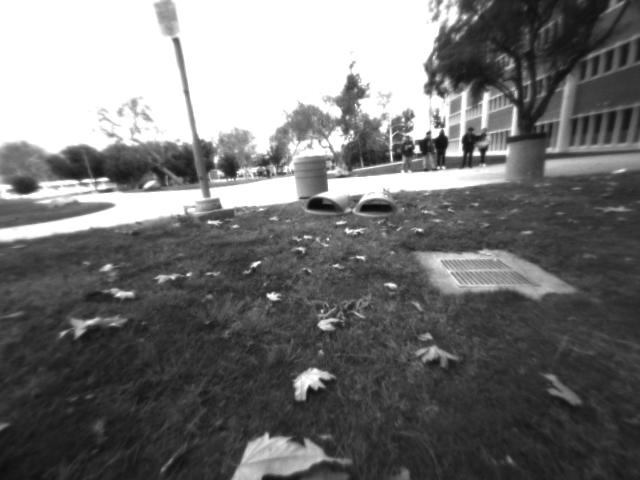trashcan: (500, 127, 552, 184), (285, 141, 335, 196)
